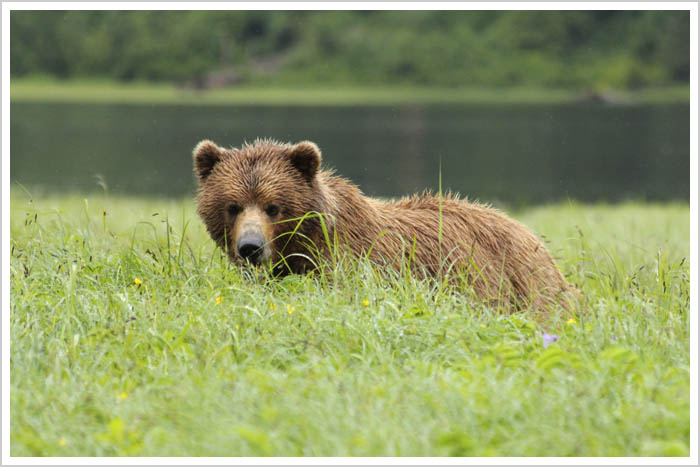bear: (190, 134, 329, 269)
